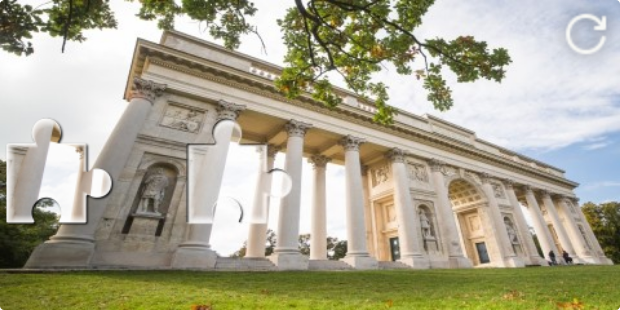target: (187, 118, 293, 223)
